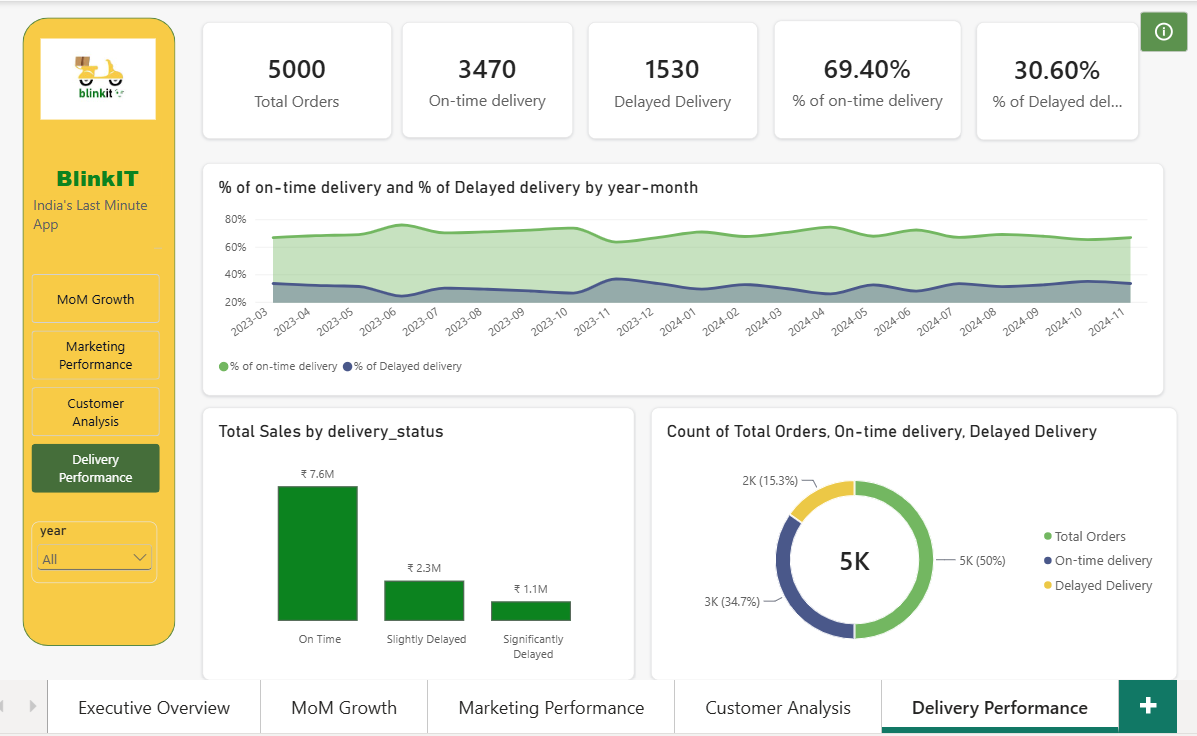

The dashboard page shown, as its layout file describes it:
{"tool":"powerbi","page":{"name":"Delivery Performance","canvas":[1280,720],"ordinal":4},"visuals":[{"type":"card","fields":{"Values":["blinkit_delivery_performance.Delayed Delivery"]},"box":[626.7,22.3,179.7,124.1],"z":0},{"type":"shape","box":[27,17.3,162.2,666.5],"z":1000},{"type":"pageNavigator","box":[36.6,288.9,136.8,233.8],"z":2000},{"type":"card","fields":{"Values":["blinkit_delivery_performance.On-time delivery"]},"box":[429.5,22.3,181.3,122.5],"z":3000},{"type":"textbox","title":"    BlinkIT","box":[38.5,171.4,136.8,90.7],"z":4000},{"type":"card","fields":{"Values":["blinkit_orders.Total Orders"]},"box":[217.9,22.3,200.4,124.1],"z":5000},{"type":"slicer","fields":{"Values":["Dimdate.year"]},"box":[36.6,552.7,133.6,65.2],"z":6000},{"type":"image","box":[30.2,39.8,154.3,85.9],"z":7000},{"type":"actionButton","box":[1212,11.1,50.9,42.9],"z":8000},{"type":"donutChart","title":"Count of Total Orders, On-time delivery, Delayed Delivery","fields":{"Y":["blinkit_orders.Total Orders","blinkit_delivery_performance.On-time delivery","blinkit_delivery_performance.Delayed Delivery"]},"box":[693.5,431.1,558.3,289.5],"z":9000},{"type":"card","fields":{"Values":["blinkit_delivery_performance.% of on-time delivery"]},"box":[823.9,20.7,198.8,125.7],"z":10000},{"type":"columnChart","fields":{"Category":["blinkit_orders.delivery_status"],"Y":["blinkit_orders.Total Sales"]},"box":[217.9,431.1,458.1,289.5],"z":11000},{"type":"areaChart","fields":{"Category":["Dimdate.year-month"],"Y":["blinkit_delivery_performance.% of on-time delivery","blinkit_delivery_performance.% of Delayed delivery"]},"box":[217.9,171.8,1019.6,246.5],"z":12000},{"type":"card","fields":{"Values":["blinkit_delivery_performance.% of Delayed delivery"]},"box":[1039,22.3,172.2,125.6],"z":13000}]}

Visuals, with their boxes on the page's 1280x720 design canvas (x1, y1, x2, y2). These are canvas units, not pixel positions in the 1197x736 screenshot, which may show the page scaled, cropped or inside an application window:
card - blinkit_delivery_performance.Delayed Delivery: (627, 22, 806, 146)
shape: (27, 17, 189, 684)
pageNavigator: (37, 289, 173, 523)
card - blinkit_delivery_performance.On-time delivery: (430, 22, 611, 145)
"    BlinkIT" textbox: (38, 171, 175, 262)
card - blinkit_orders.Total Orders: (218, 22, 418, 146)
slicer - Dimdate.year: (37, 553, 170, 618)
image: (30, 40, 184, 126)
actionButton: (1212, 11, 1263, 54)
"Count of Total Orders, On-time delivery, Delayed Delivery" donutChart: (694, 431, 1252, 721)
card - blinkit_delivery_performance.% of on-time delivery: (824, 21, 1023, 146)
columnChart - blinkit_orders.delivery_status x blinkit_orders.Total Sales: (218, 431, 676, 721)
areaChart - Dimdate.year-month x blinkit_delivery_performance.% of on-time delivery: (218, 172, 1238, 418)
card - blinkit_delivery_performance.% of Delayed delivery: (1039, 22, 1211, 148)
